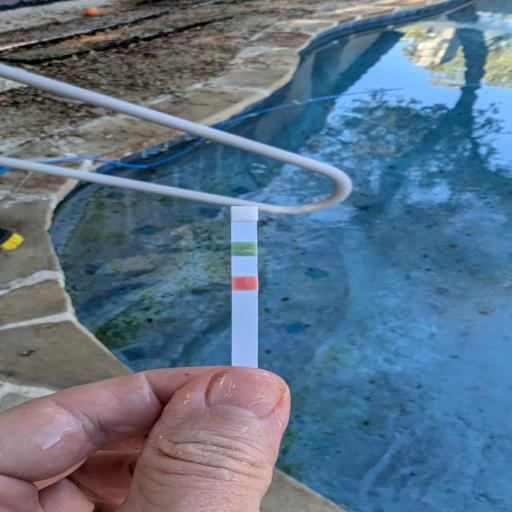strip: (231, 206, 258, 368)
